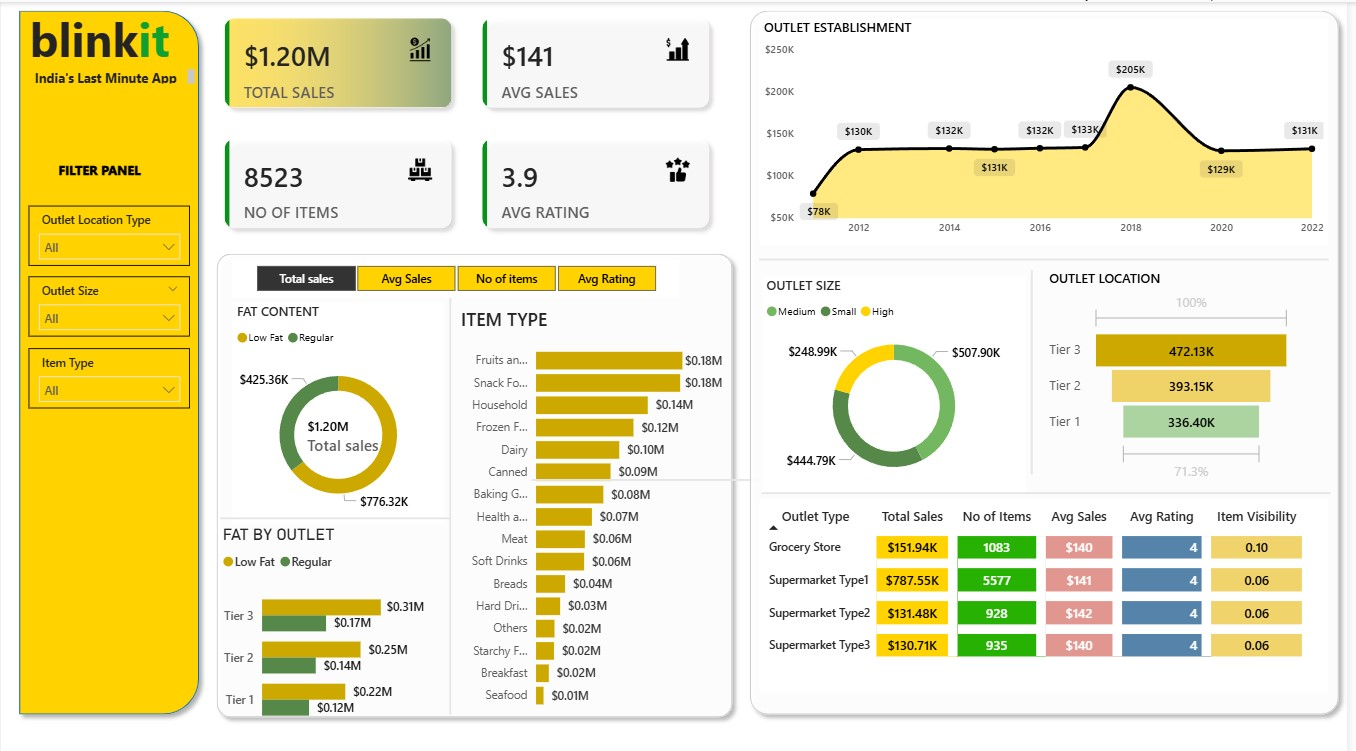

This screenshot's page, from the dashboard's own definition file:
{"tool":"powerbi","page":{"name":"HOME","canvas":[1400,800],"ordinal":0},"visuals":[{"type":"shape","box":[10,0,205,750],"z":0},{"type":"textbox","box":[25.2,0,172.2,77],"z":1000},{"type":"textbox","box":[18.2,64.4,187.5,25.2],"z":2000},{"type":"cardVisual","fields":{"Data":["BlinkIT Grocery Data.Total sales","BlinkIT Grocery Data.Avg Sales","BlinkIT Grocery Data.No of Sales","BlinkIT Grocery Data.Avg Rating"]},"box":[215.5,0,539.4,252.9],"z":3000},{"type":"shape","box":[216,253,554,500],"z":4000},{"type":"donutChart","title":"FAT CONTENT","fields":{"Y":["BlinkIT Grocery Data.Total sales"],"Series":["BlinkIT Grocery Data.Item Fat Content"]},"box":[240.4,312.7,220.5,230.5],"z":5000},{"type":"slicer","fields":{"Values":["Metrics.Metrics"]},"box":[240.4,267.8,464.7,39.9],"z":6000},{"type":"cardVisual","fields":{"Data":["BlinkIT Grocery Data.Total sales"]},"box":[301.5,414.9,159.5,63.5],"z":7000},{"type":"clusteredBarChart","title":"FAT BY OUTLET","fields":{"Y":["BlinkIT Grocery Data.Total sales"],"Category":["BlinkIT Grocery Data.Outlet Location Type"],"Series":["BlinkIT Grocery Data.Item Fat Content"]},"box":[225.5,543.2,219.3,223],"z":8000},{"type":"shape","box":[228,530.7,239.2,12.5],"z":9000},{"type":"shape","box":[460.9,307.7,12.5,433.5],"z":10000},{"type":"clusteredBarChart","title":"ITEM TYPE","fields":{"Y":["BlinkIT Grocery Data.Total sales"],"Category":["BlinkIT Grocery Data.Item Type"]},"box":[473.4,316.4,281.6,428.6],"z":11000},{"type":"shape","box":[551.9,490.8,239.2,12.5],"z":12000},{"type":"shape","box":[769.9,0,630.4,750],"z":13000},{"type":"lineChart","title":"OUTLET ESTABLISHMENT","fields":{"Y":["BlinkIT Grocery Data.Total sales"],"Category":["BlinkIT Grocery Data.Outlet Establishment Year"]},"box":[788.6,17.4,591.8,235.5],"z":14000},{"type":"shape","box":[788.6,261.6,591.8,12.5],"z":15000},{"type":"donutChart","title":"OUTLET SIZE","fields":{"Y":["BlinkIT Grocery Data.Total sales"],"Category":["BlinkIT Grocery Data.Outlet Size"]},"box":[791.1,285.3,275,225],"z":16000},{"type":"shape","box":[1058.9,279.1,26.2,211.8],"z":17000},{"type":"funnel","title":"OUTLET LOCATION","fields":{"Y":["Sum(BlinkIT Grocery Data.Sales)"],"Category":["BlinkIT Grocery Data.Outlet Location Type"]},"box":[1085.1,277.8,261.6,225.5],"z":18000},{"type":"shape","box":[791.1,504.6,591.8,12.5],"z":19000},{"type":"pivotTable","fields":{"Values":["BlinkIT Grocery Data.Total sales","BlinkIT Grocery Data.No of items","BlinkIT Grocery Data.Avg Sales","BlinkIT Grocery Data.Avg Rating","Avg(BlinkIT Grocery Data.Item Visibility)"],"Rows":["BlinkIT Grocery Data.Outlet Type"]},"box":[788.6,517,591.8,201.8],"z":20000},{"type":"slicer","fields":{"Values":["BlinkIT Grocery Data.Outlet Location Type"]},"box":[28.7,211.8,168.2,62.3],"z":20001},{"type":"slicer","fields":{"Values":["BlinkIT Grocery Data.Outlet Size"]},"box":[28.7,285.3,168.2,62.3],"z":20002},{"type":"slicer","fields":{"Values":["BlinkIT Grocery Data.Item Type"]},"box":[28.7,360,168.2,62.3],"z":20003},{"type":"textbox","box":[54.8,160.7,118.4,38.6],"z":20004}]}

Visuals, with their boxes on the page's 1400x800 design canvas (x1, y1, x2, y2). These are canvas units, not pixel positions in the 1356x751 screenshot, which may show the page scaled, cropped or inside an application window:
shape: 10/0/215/750
textbox: 25/0/197/77
textbox: 18/64/206/90
cardVisual - BlinkIT Grocery Data.Total sales x BlinkIT Grocery Data.Avg Sales: 216/0/755/253
shape: 216/253/770/753
"FAT CONTENT" donutChart: 240/313/461/543
slicer - Metrics.Metrics: 240/268/705/308
cardVisual - BlinkIT Grocery Data.Total sales: 302/415/461/478
"FAT BY OUTLET" clusteredBarChart: 226/543/445/766
shape: 228/531/467/543
shape: 461/308/473/741
"ITEM TYPE" clusteredBarChart: 473/316/755/745
shape: 552/491/791/503
shape: 770/0/1400/750
"OUTLET ESTABLISHMENT" lineChart: 789/17/1380/253
shape: 789/262/1380/274
"OUTLET SIZE" donutChart: 791/285/1066/510
shape: 1059/279/1085/491
"OUTLET LOCATION" funnel: 1085/278/1347/503
shape: 791/505/1383/517
pivotTable - BlinkIT Grocery Data.Total sales x BlinkIT Grocery Data.No of items: 789/517/1380/719
slicer - BlinkIT Grocery Data.Outlet Location Type: 29/212/197/274
slicer - BlinkIT Grocery Data.Outlet Size: 29/285/197/348
slicer - BlinkIT Grocery Data.Item Type: 29/360/197/422
textbox: 55/161/173/199
